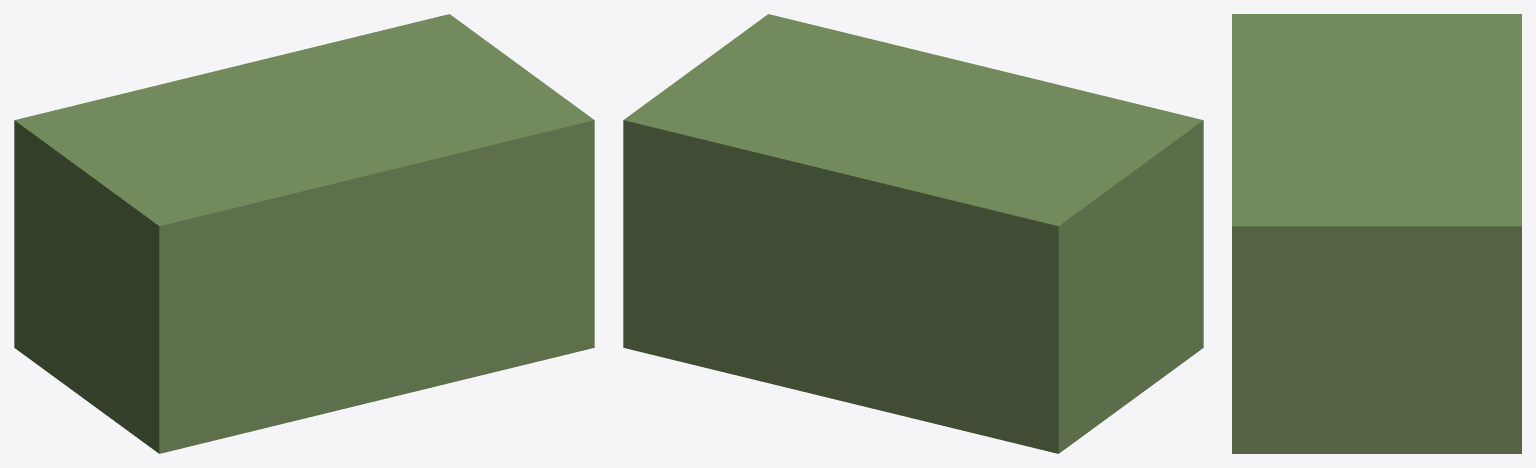
File: edge_grass_grass_grass_grass.glb
3 views of the same model, side by side, from view 1: azimuth 30°, elevation 25°; view 2: azimuth 150°, elevation 25°; view 3: azimuth 270°, elevation 25° (orthographic).
Parts seen in each view (by area): view 1: edge_grass_grass_grass_grass; view 2: edge_grass_grass_grass_grass; view 3: edge_grass_grass_grass_grass.
Boxes of the visible parts, x1,y1,x2,y2 form: edge_grass_grass_grass_grass: [14, 14, 594, 453]; edge_grass_grass_grass_grass: [623, 14, 1203, 453]; edge_grass_grass_grass_grass: [1232, 14, 1521, 453].
Size of the model in its own units: 1 by 0.5 by 0.577.
